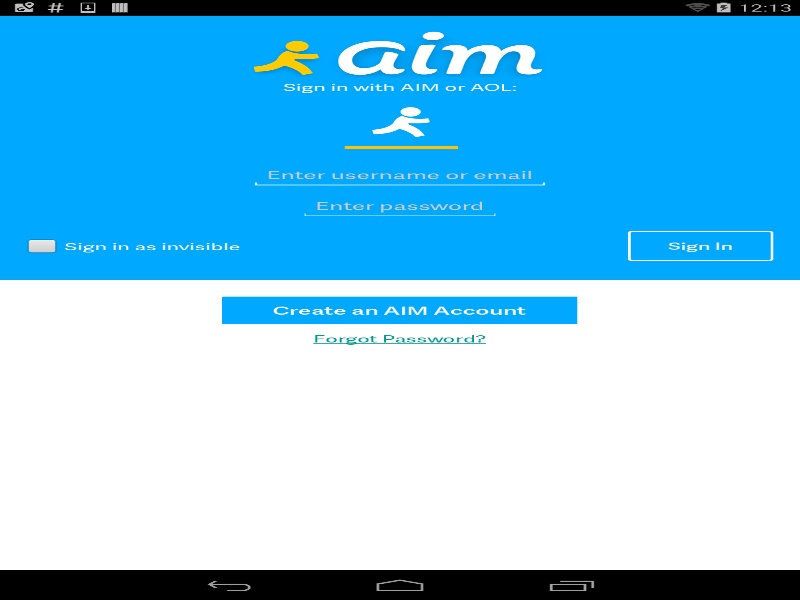Button: (219, 295, 580, 325), (340, 103, 459, 150), (628, 230, 773, 260)
Input: (250, 162, 549, 187), (299, 193, 500, 218)
